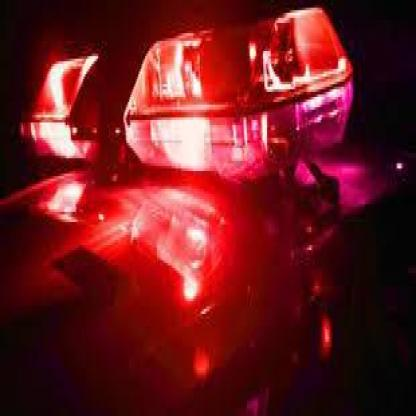other: (8, 8, 386, 374)
